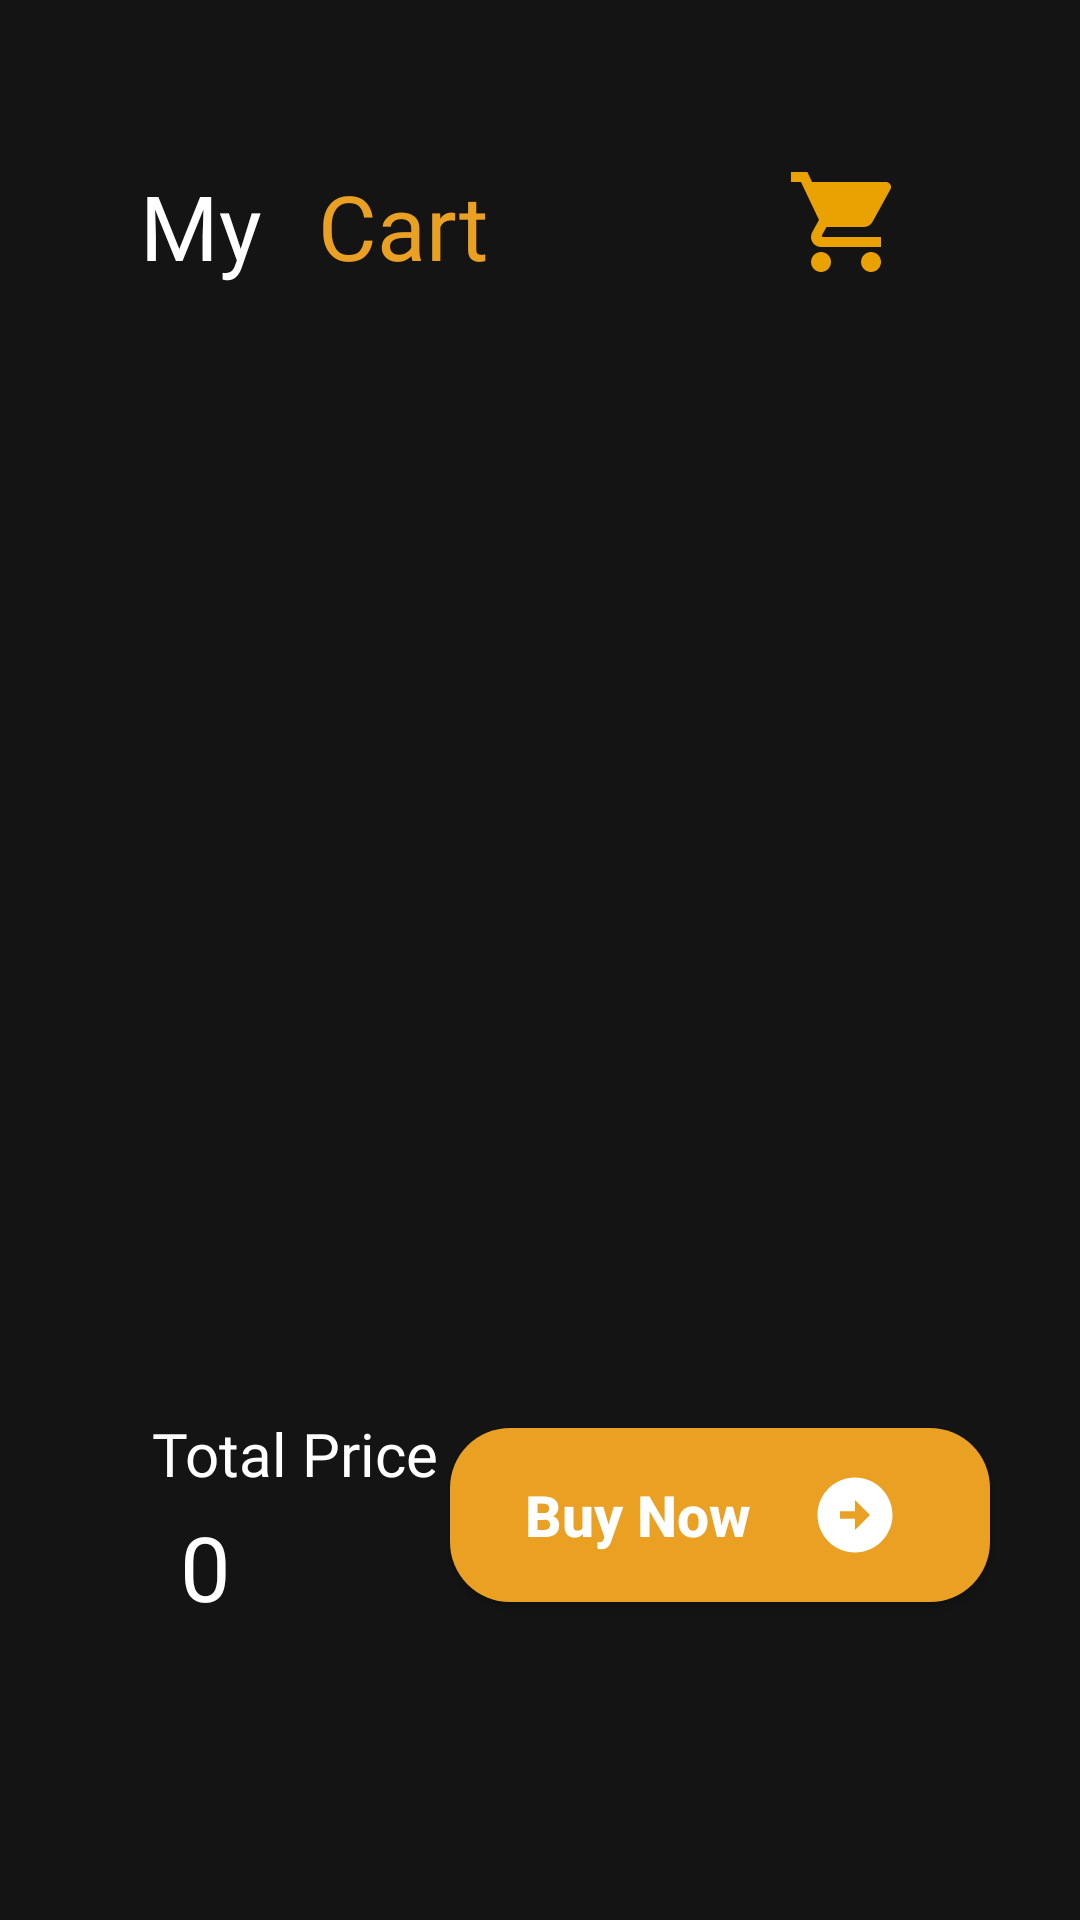

Icon bounding boxes for this 1080*1920 phone screenshot, format (x1, y1, x2, y2):
shopping cart mycard: (791, 172, 891, 272)
